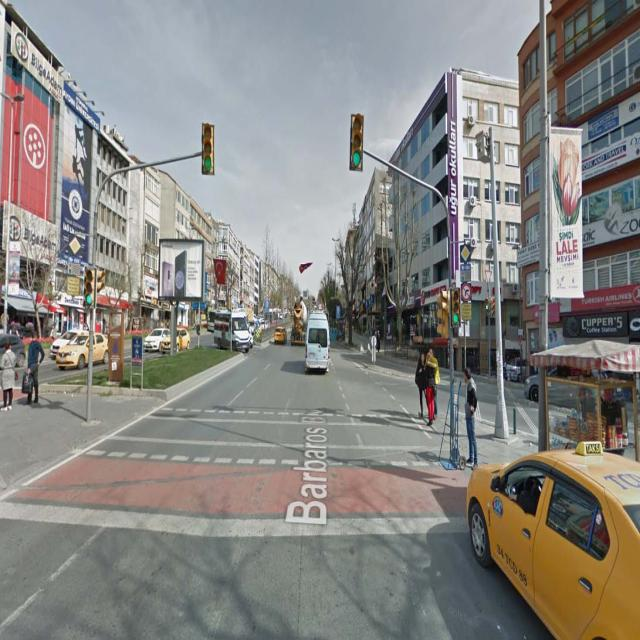sagadonulmez: (461, 283, 471, 300)
yesil: (201, 122, 214, 176), (350, 112, 362, 168), (449, 287, 460, 326), (83, 267, 93, 307)
